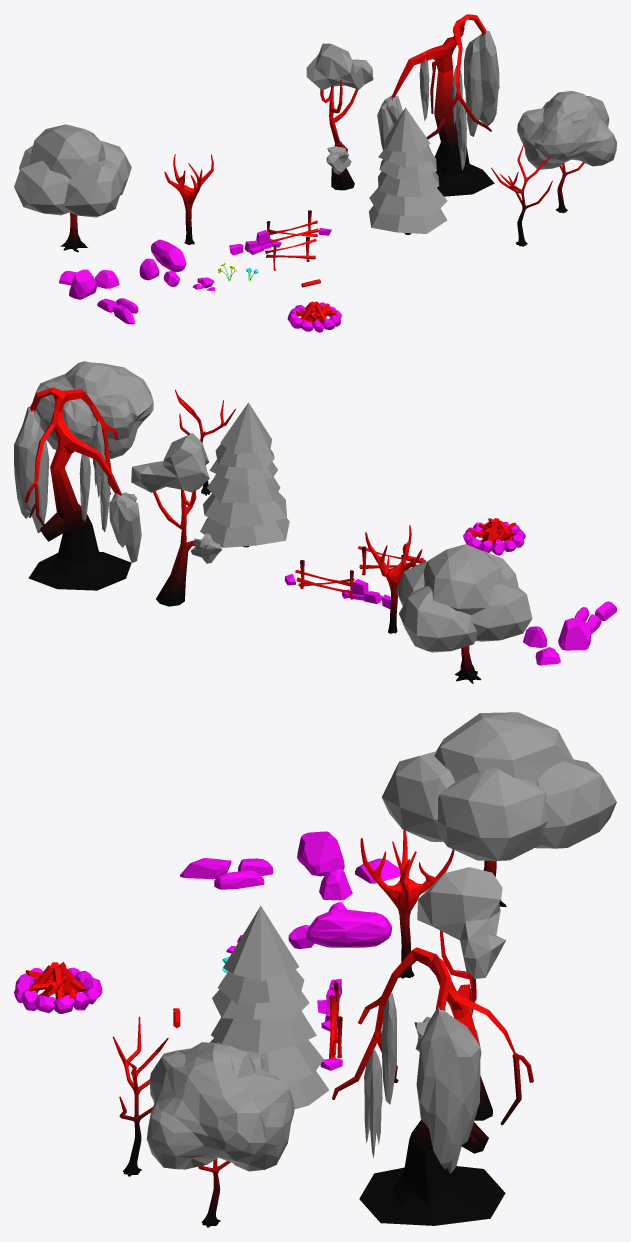
Rendered from Assets_Nature.FBX.
3 views of the same model, one above another, from view 1: azimuth 30°, elevation 25°; view 2: azimuth 150°, elevation 25°; view 3: azimuth 270°, elevation 25° (orthographic). The views are drawn at different scales.
Visible parts, largest first — view 1: Tree_05, Tree_02, Tree_03, Tree_01, Tree_04, Feu de camp, Roche03, Barriere_01, Tree_02_mort, Tree_01_mort, Roche01, Roche04; view 2: Tree_05, Tree_02, Tree_03, Tree_01, Tree_04, Roche03, Feu de camp, Barriere_01, Tree_02_mort, Roche04, Tree_01_mort; view 3: Tree_02, Tree_05, Tree_01, Tree_03, Tree_04, Feu de camp, Roche03, Roche01, Tree_02_mort, Roche04, Tree_01_mort, Barriere_01.
Part boxes in pixels (x1,y1,x2,y2): Tree_05: [377, 14, 499, 196]; Tree_02: [14, 124, 131, 252]; Tree_03: [368, 107, 447, 234]; Tree_01: [517, 91, 616, 213]; Tree_04: [306, 43, 373, 190]; Feu de camp: [287, 301, 341, 332]; Roche03: [59, 269, 119, 299]; Barriere_01: [229, 210, 331, 255]; Tree_02_mort: [164, 154, 213, 244]; Tree_01_mort: [491, 144, 552, 246]; Roche01: [151, 239, 186, 272]; Roche04: [97, 298, 138, 324]; Tree_05: [14, 387, 141, 590]; Tree_02: [396, 544, 532, 683]; Tree_03: [200, 402, 289, 547]; Tree_01: [33, 361, 153, 494]; Tree_04: [131, 433, 222, 606]; Roche03: [523, 618, 590, 665]; Feu de camp: [463, 518, 525, 555]; Barriere_01: [284, 560, 397, 608]; Tree_02_mort: [365, 525, 422, 633]; Roche04: [574, 601, 616, 634]; Tree_01_mort: [175, 389, 235, 495]; Tree_02: [382, 712, 616, 906]; Tree_05: [332, 947, 533, 1225]; Tree_01: [147, 1042, 294, 1227]; Tree_03: [210, 906, 328, 1109]; Tree_04: [414, 867, 505, 1120]; Feu de camp: [14, 962, 102, 1013]; Roche03: [297, 831, 400, 900]; Roche01: [306, 910, 391, 947]; Tree_02_mort: [360, 828, 454, 978]; Roche04: [180, 858, 273, 889]; Tree_01_mort: [112, 1016, 168, 1176]; Barriere_01: [317, 979, 342, 1070].
Size of the model in its own units: 3351 by 1002 by 2105.
2 materials, 1 textured.
